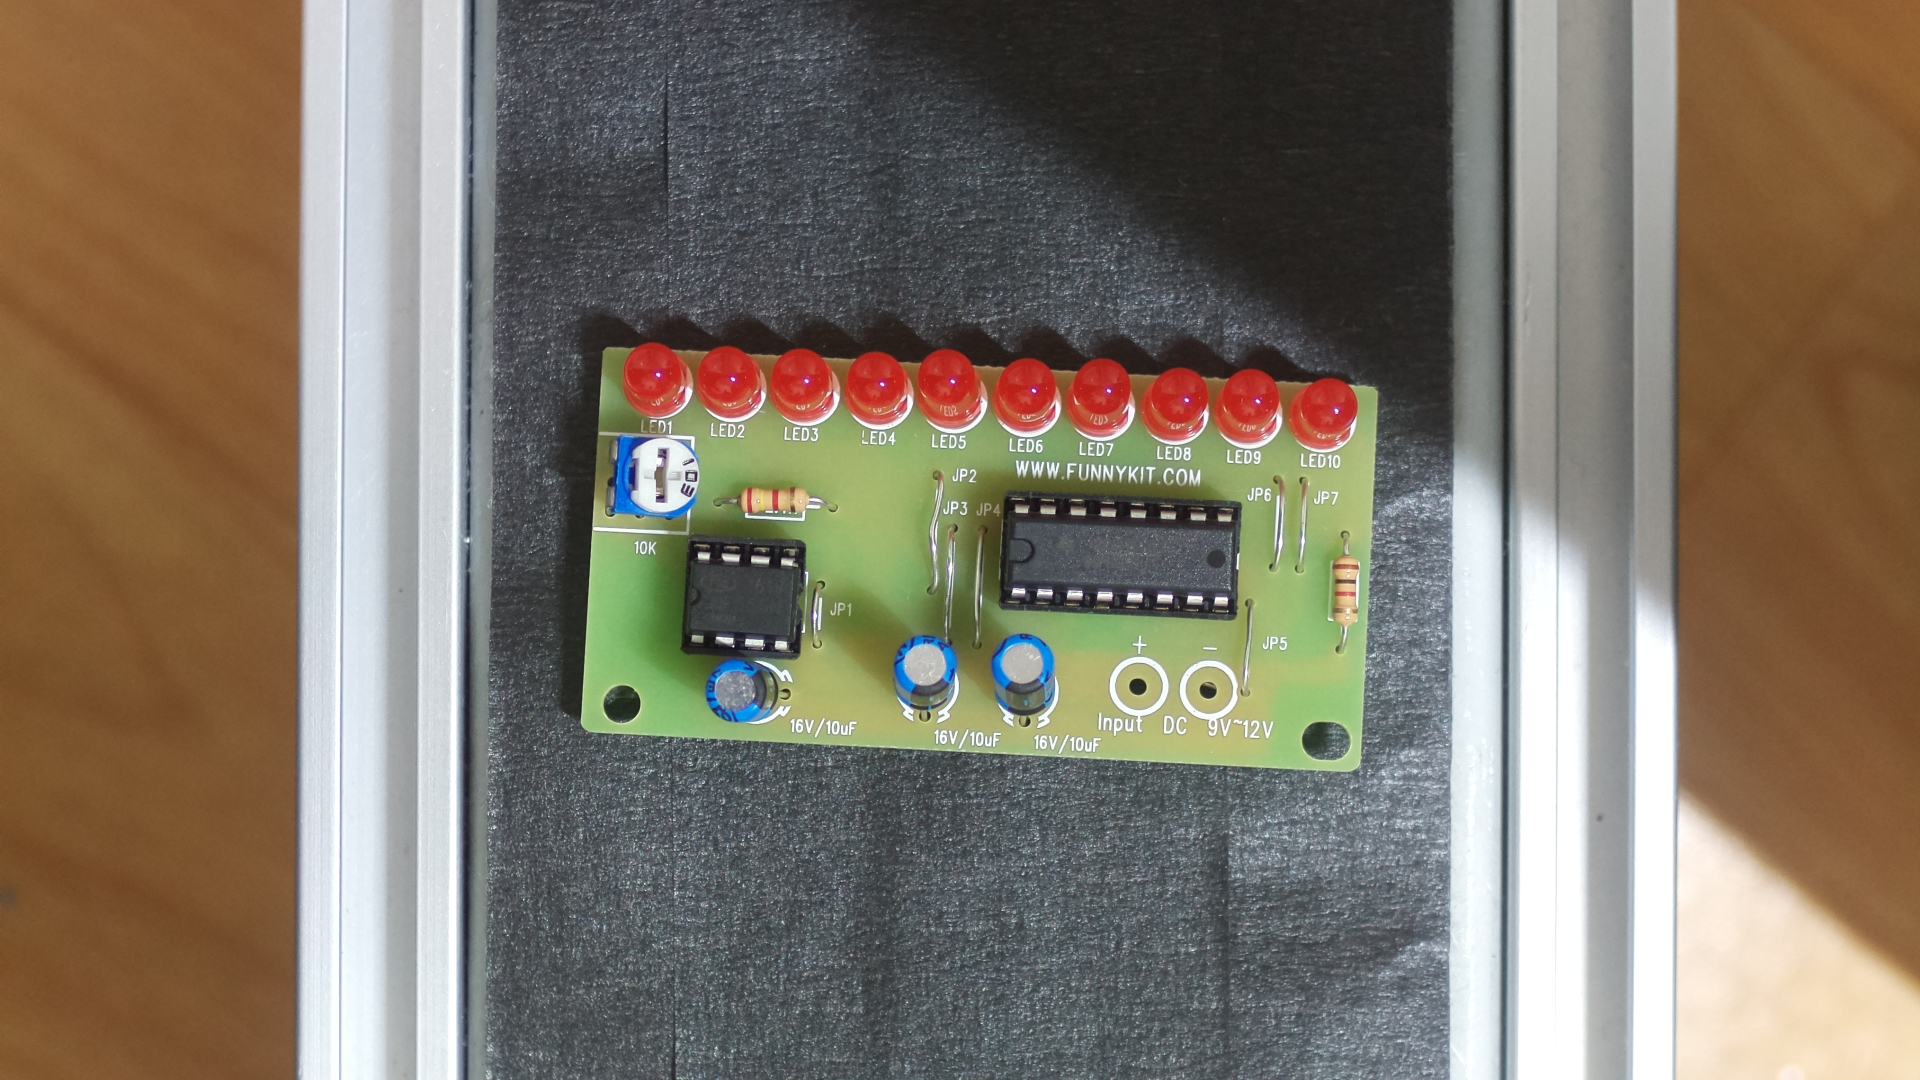B_Normal: (577, 317, 1403, 783)
